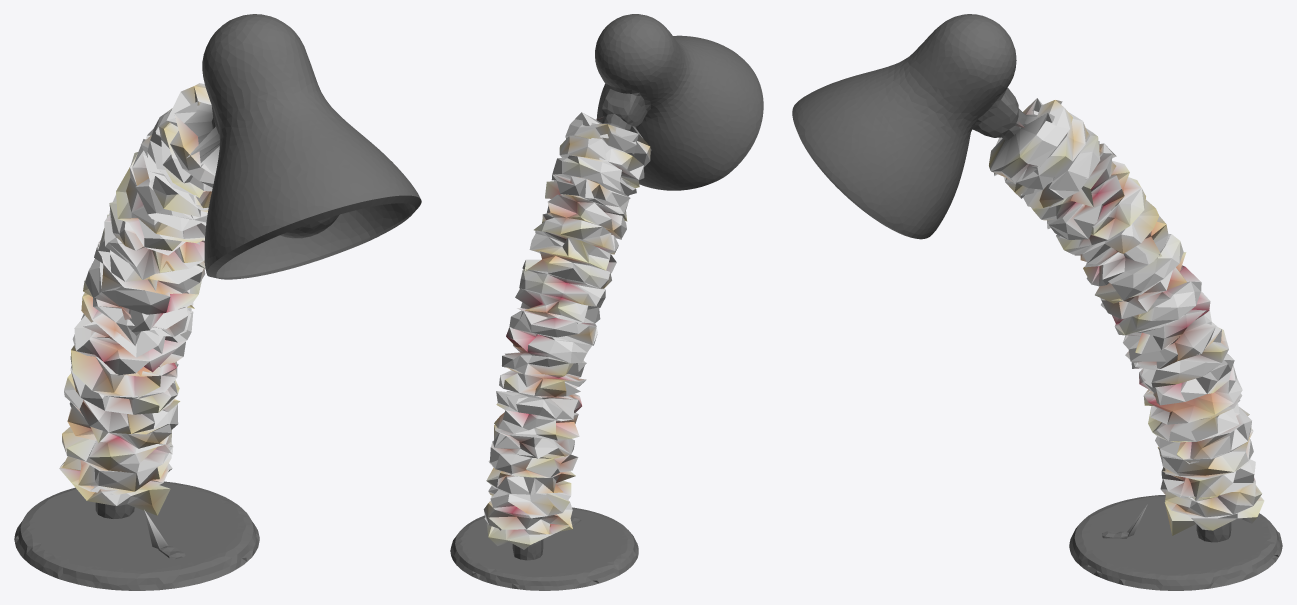
The model's file is lamp3_final400.obj.
3 renders of one model, left to right at view 1: azimuth 30°, elevation 25°; view 2: azimuth 150°, elevation 25°; view 3: azimuth 270°, elevation 25°, orthographic. The views are drawn at different scales.
Bounding box in the file's own units: 0.568 × 1.55 × 1.31.
